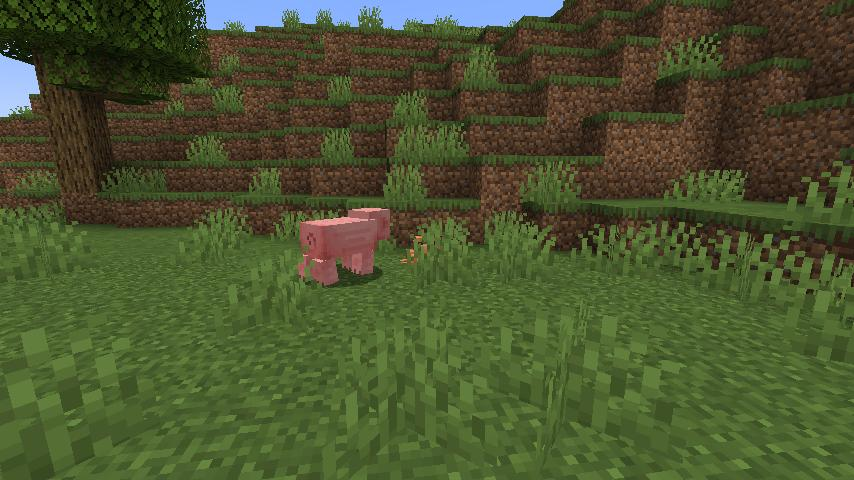pig: (295, 203, 395, 286)
